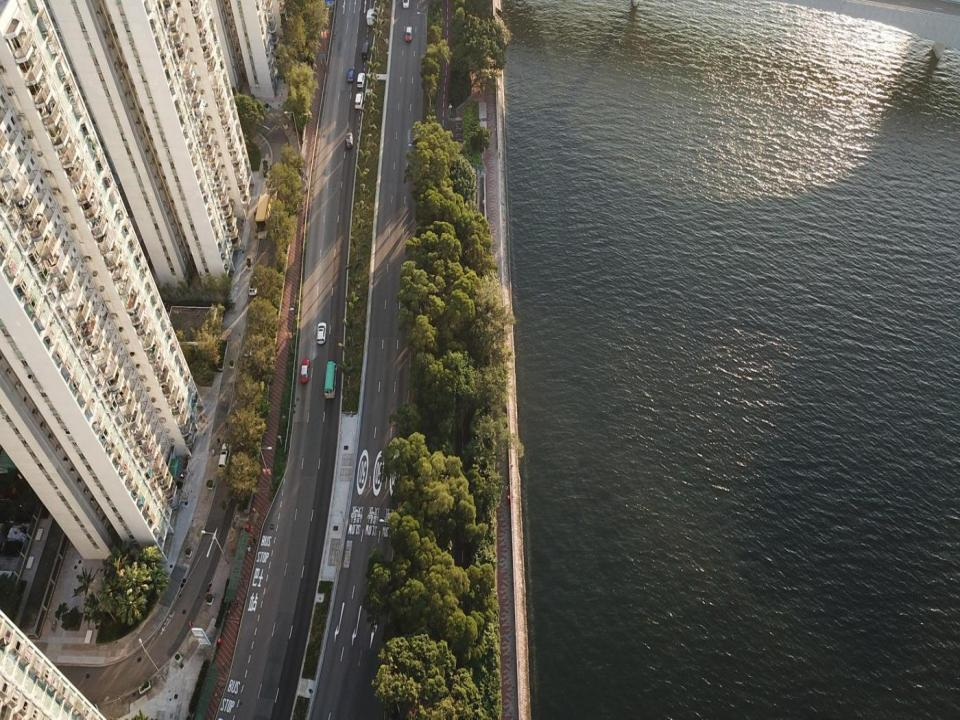bus: (324, 359, 336, 399)
car: (300, 358, 310, 384), (317, 320, 326, 344), (404, 26, 412, 43), (248, 280, 256, 296), (346, 132, 353, 147), (346, 69, 354, 82), (402, 0, 409, 8)
truck: (366, 8, 374, 26)
van: (218, 443, 230, 471), (360, 42, 370, 60), (354, 91, 364, 109), (357, 71, 364, 87)
